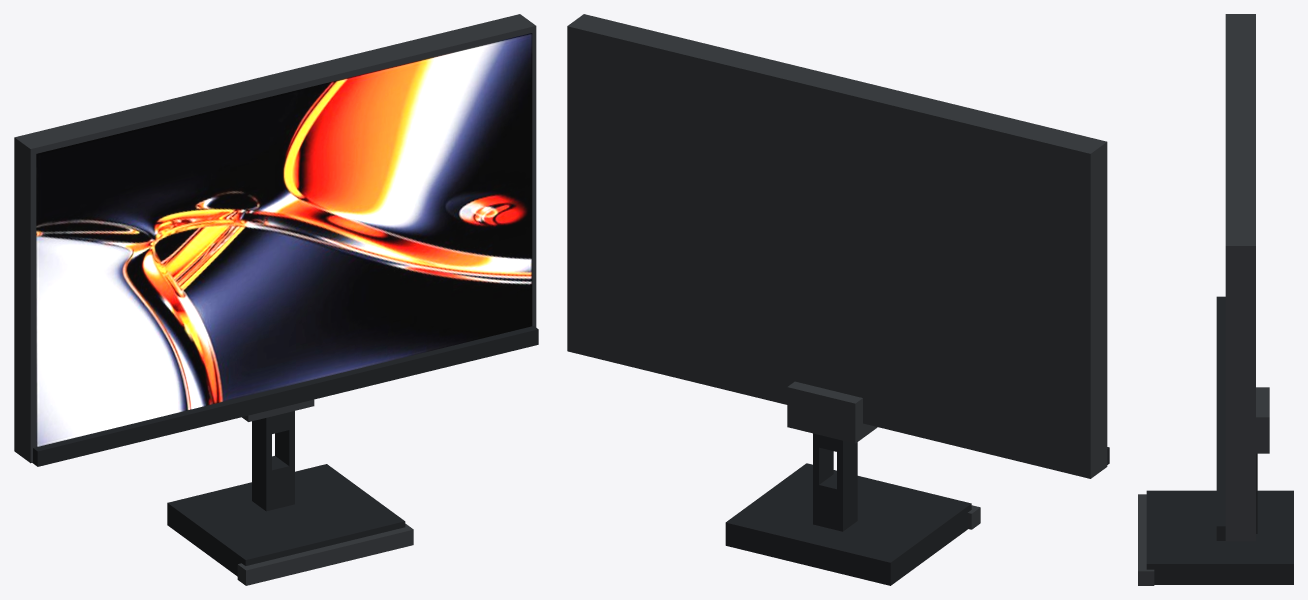
File: monitor-27.glb
The picture shows the model from 3 angles, left to right: view 1: azimuth 30°, elevation 25°; view 2: azimuth 150°, elevation 25°; view 3: azimuth 270°, elevation 25°; orthographic projection. The views are drawn at different scales.
Parts seen in each view (by area): view 1: Screen, Display housing, Weighted base, Lower bezel, Base front edge, Stand lower bridge, Stand left rail, Stand upper bridge; view 2: Display housing, Weighted base, Tilt mount, Stand lower bridge, Stand left rail, Stand right rail; view 3: Display housing, Weighted base, Lower bezel, Base front edge, Tilt mount.
Boxes of the visible parts, left/top/right/bottom form: Screen: left=36, top=33, right=532, bottom=447; Display housing: left=14, top=14, right=536, bottom=463; Weighted base: left=167, top=464, right=405, bottom=576; Lower bezel: left=32, top=326, right=538, bottom=466; Base front edge: left=237, top=523, right=413, bottom=585; Stand lower bridge: left=252, top=456, right=294, bottom=511; Stand left rail: left=252, top=425, right=271, bottom=471; Stand upper bridge: left=252, top=411, right=294, bottom=435; Display housing: left=567, top=14, right=1107, bottom=478; Weighted base: left=725, top=463, right=971, bottom=585; Tilt mount: left=787, top=381, right=877, bottom=443; Stand lower bridge: left=813, top=474, right=857, bottom=531; Stand left rail: left=837, top=443, right=857, bottom=490; Stand right rail: left=813, top=446, right=833, bottom=484; Display housing: left=1225, top=14, right=1255, bottom=541; Weighted base: left=1146, top=490, right=1293, bottom=584; Lower bezel: left=1216, top=296, right=1225, bottom=540; Base front edge: left=1138, top=494, right=1154, bottom=585; Tilt mount: left=1256, top=387, right=1269, bottom=453.
Size of the model in its own units: 0.615 by 0.517 by 0.1745.
Materials: 3 (1 with a texture image).
